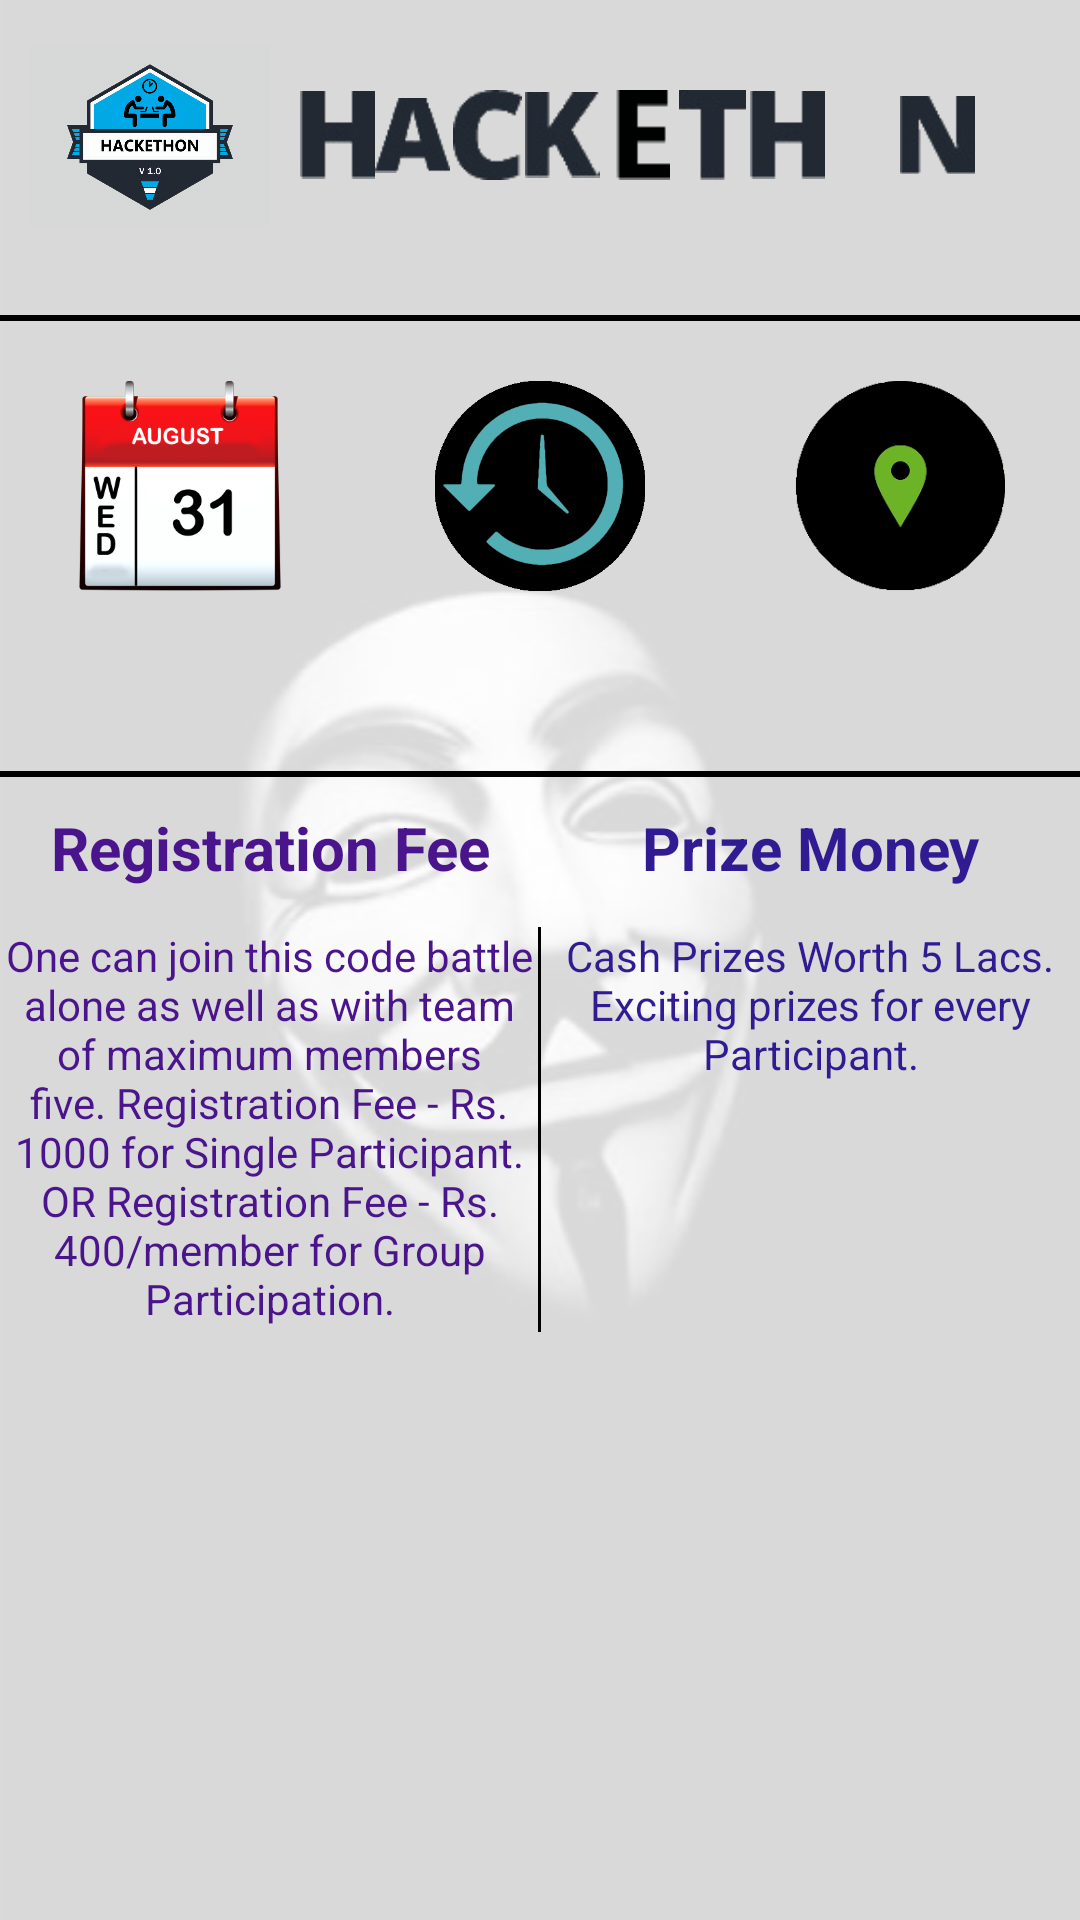

Locate icon controls on the screen. Image size 1080x1920, boxes as Rect(x1, y1, x2, y2).
date: Rect(79, 381, 281, 591)
time: Rect(435, 381, 645, 591)
venue: Rect(796, 381, 1005, 590)
